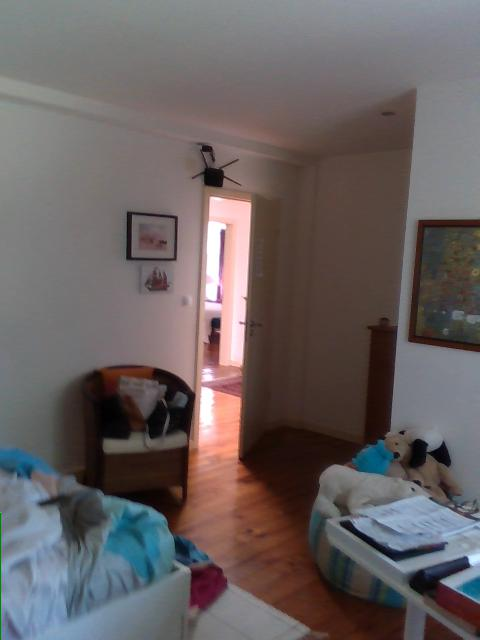semi_door: (186, 176, 269, 465)
